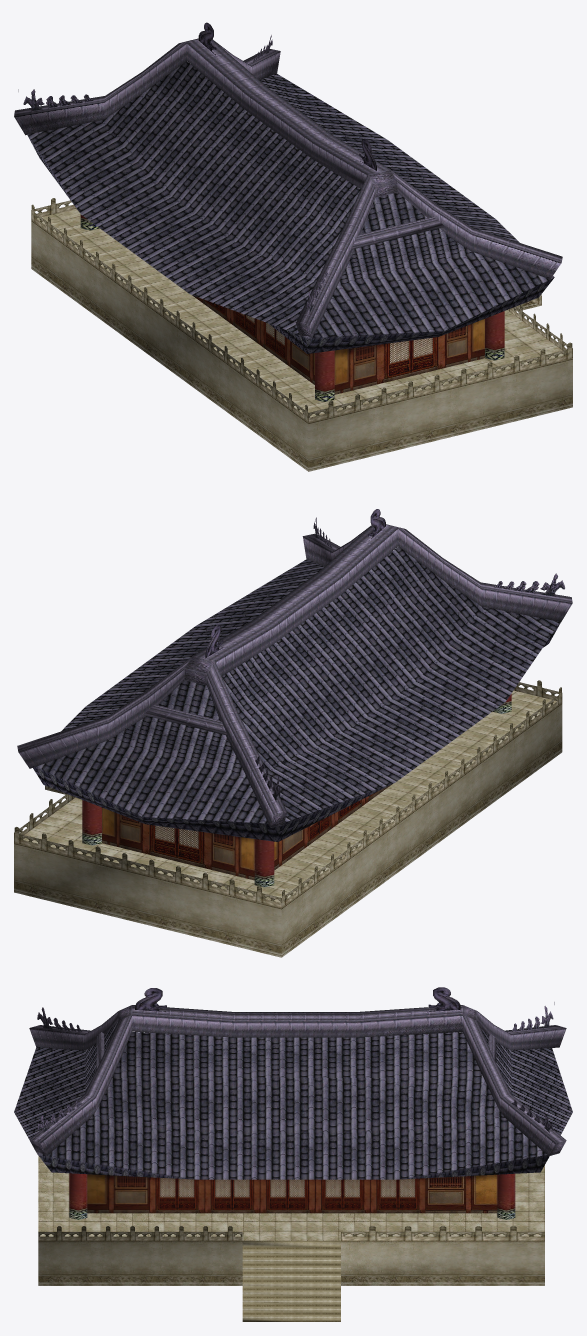
Rendered from cj5_tem_sleep.glb.
The picture shows the model from 3 angles, top to bottom: view 1: azimuth 30°, elevation 25°; view 2: azimuth 150°, elevation 25°; view 3: azimuth 270°, elevation 25°; orthographic projection. The views are drawn at different scales.
Parts seen in each view (by area): view 1: CJ5_tem_sleep03, CJ5_tem_sleep02, CJ5_tem_sleep07, CJ5_tem_sleep06, CJ5_tem_sleep01, CJ5_tem_sleep05; view 2: CJ5_tem_sleep03, CJ5_tem_sleep02, CJ5_tem_sleep07, CJ5_tem_sleep06, CJ5_tem_sleep01, CJ5_tem_sleep05; view 3: CJ5_tem_sleep03, CJ5_tem_sleep02, CJ5_tem_sleep07, CJ5_tem_sleep01, CJ5_tem_sleep06, CJ5_tem_sleep05.
Part boxes in pixels (x1,y1,x2,y2): CJ5_tem_sleep03: (27, 61, 554, 337); CJ5_tem_sleep02: (31, 198, 572, 471); CJ5_tem_sleep07: (14, 22, 562, 401); CJ5_tem_sleep06: (37, 208, 563, 417); CJ5_tem_sleep01: (192, 295, 484, 394); CJ5_tem_sleep05: (27, 135, 554, 353); CJ5_tem_sleep03: (37, 546, 560, 823); CJ5_tem_sleep02: (14, 680, 562, 957); CJ5_tem_sleep07: (17, 509, 572, 887); CJ5_tem_sleep06: (23, 690, 556, 902); CJ5_tem_sleep01: (102, 784, 392, 880); CJ5_tem_sleep05: (33, 622, 560, 841); CJ5_tem_sleep03: (14, 1022, 572, 1179); CJ5_tem_sleep02: (38, 1226, 544, 1321); CJ5_tem_sleep07: (29, 987, 566, 1219); CJ5_tem_sleep01: (87, 1174, 497, 1213); CJ5_tem_sleep06: (38, 1156, 544, 1240); CJ5_tem_sleep05: (37, 1154, 549, 1179).
Size of the model in its own units: 23.95 by 15.69 by 33.67.
Materials: 7 (7 with a texture image).
